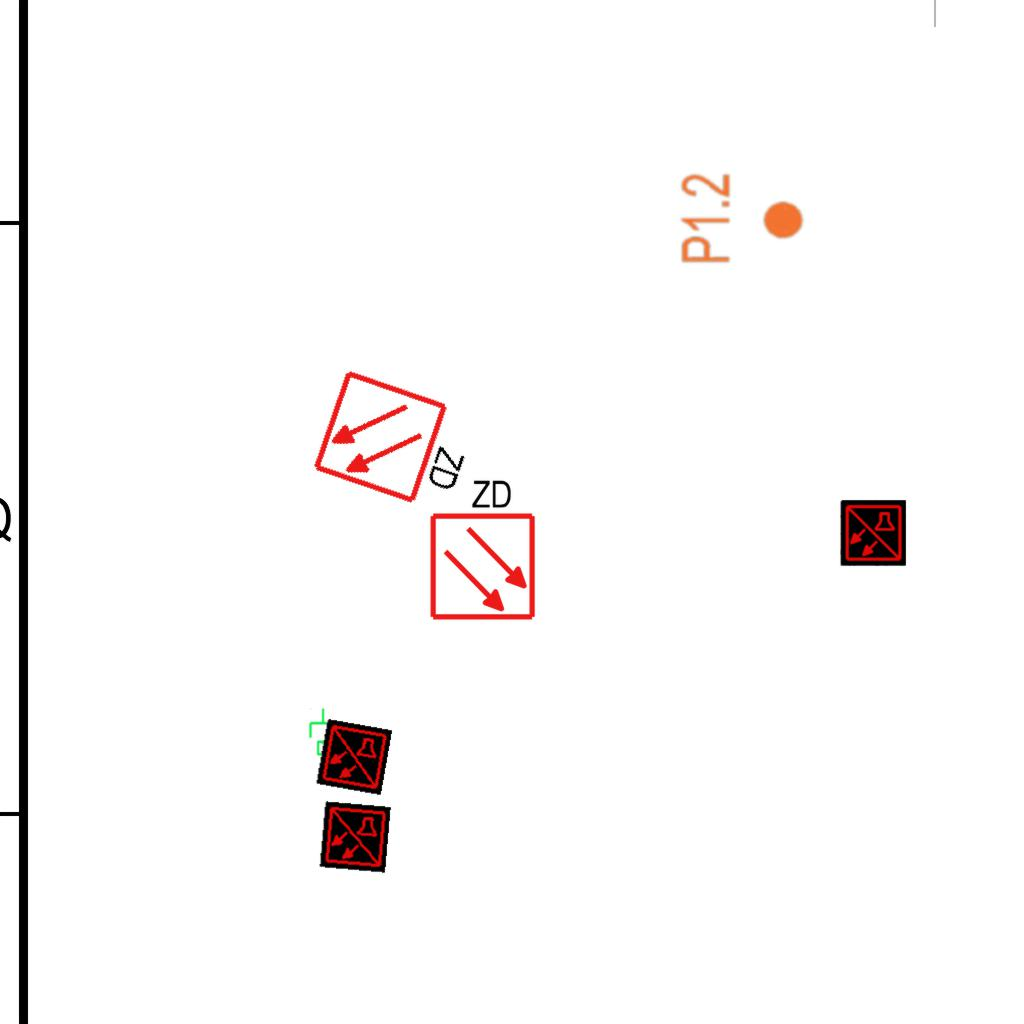Datenanschluss_einfach: (307, 707, 341, 757)
Downlight_LED_Einbauleuchten_Flur: (678, 172, 806, 265)
OKW_Multisensormelder_(Kombination_optischer_Rauch-Kahlenmonoxid_Waerme-Melder): (315, 718, 393, 796), (319, 801, 391, 873), (840, 500, 906, 566)
ZD_Melder_in_Zwischendecke_mit_Revisionsoeffnung_mind_40_x_40_cm: (310, 363, 488, 520), (424, 473, 538, 622)
